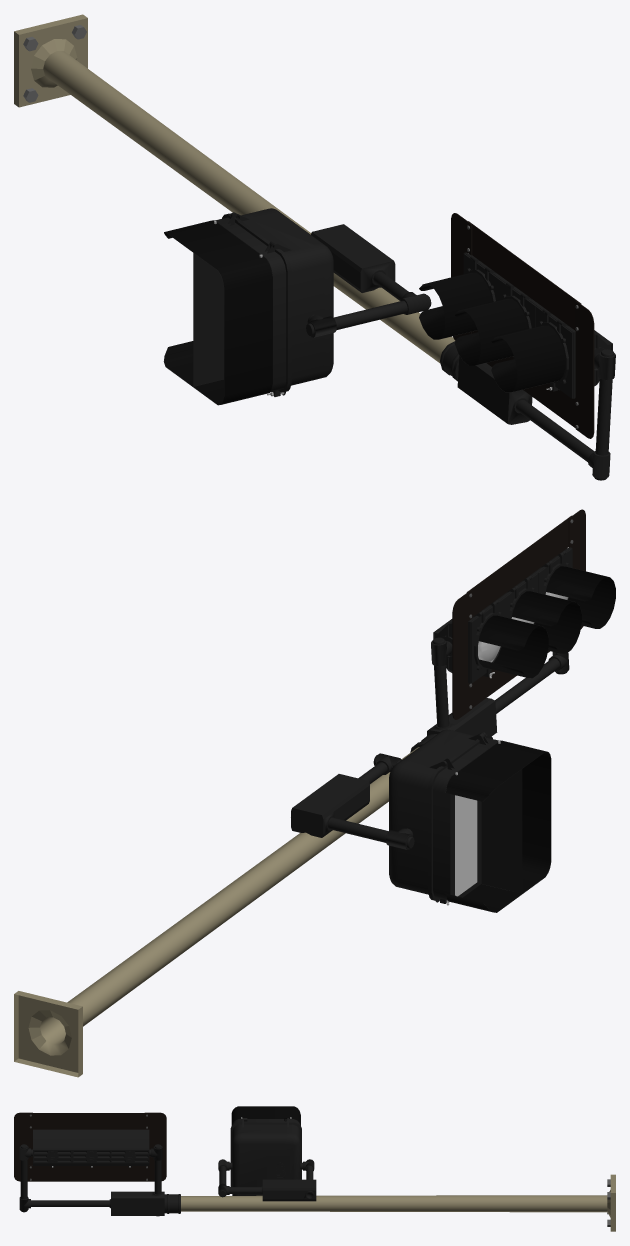
The model's file is Traffic Light 1.obj.
3 views of the same model, one above another, from view 1: azimuth 30°, elevation 25°; view 2: azimuth 150°, elevation 25°; view 3: azimuth 270°, elevation 25° (orthographic). The views are drawn at different scales.
Parts seen in each view (by area): view 1: Cube.165_Econolite_signal, Cube.165_inner_visor, Cube.165_mast_arm_twoguy, Cube.165_backplate; view 2: Cube.165_Econolite_signal, Cube.165_inner_visor, Cube.165_mast_arm_twoguy, Cube.165_backplate, Cube.165_Material.017; view 3: Cube.165_Econolite_signal, Cube.165_mast_arm_twoguy, Cube.165_backplate, Cube.165_inner_visor.
Part boxes in pixels (x1,y1,x2,y2): Cube.165_Econolite_signal: (163, 208, 615, 480); Cube.165_inner_visor: (164, 220, 565, 404); Cube.165_mast_arm_twoguy: (14, 14, 455, 363); Cube.165_backplate: (451, 213, 594, 438); Cube.165_Econolite_signal: (291, 547, 615, 912); Cube.165_inner_visor: (446, 566, 615, 912); Cube.165_mast_arm_twoguy: (14, 747, 419, 1077); Cube.165_backplate: (452, 509, 585, 719); Cube.165_Material.017: (455, 795, 477, 896); Cube.165_Econolite_signal: (19, 1106, 316, 1216); Cube.165_mast_arm_twoguy: (181, 1174, 615, 1231); Cube.165_backplate: (14, 1112, 166, 1181); Cube.165_inner_visor: (231, 1106, 300, 1125).
Bounding box in the file's own units: 0.9269 × 0.8693 × 4.14.
